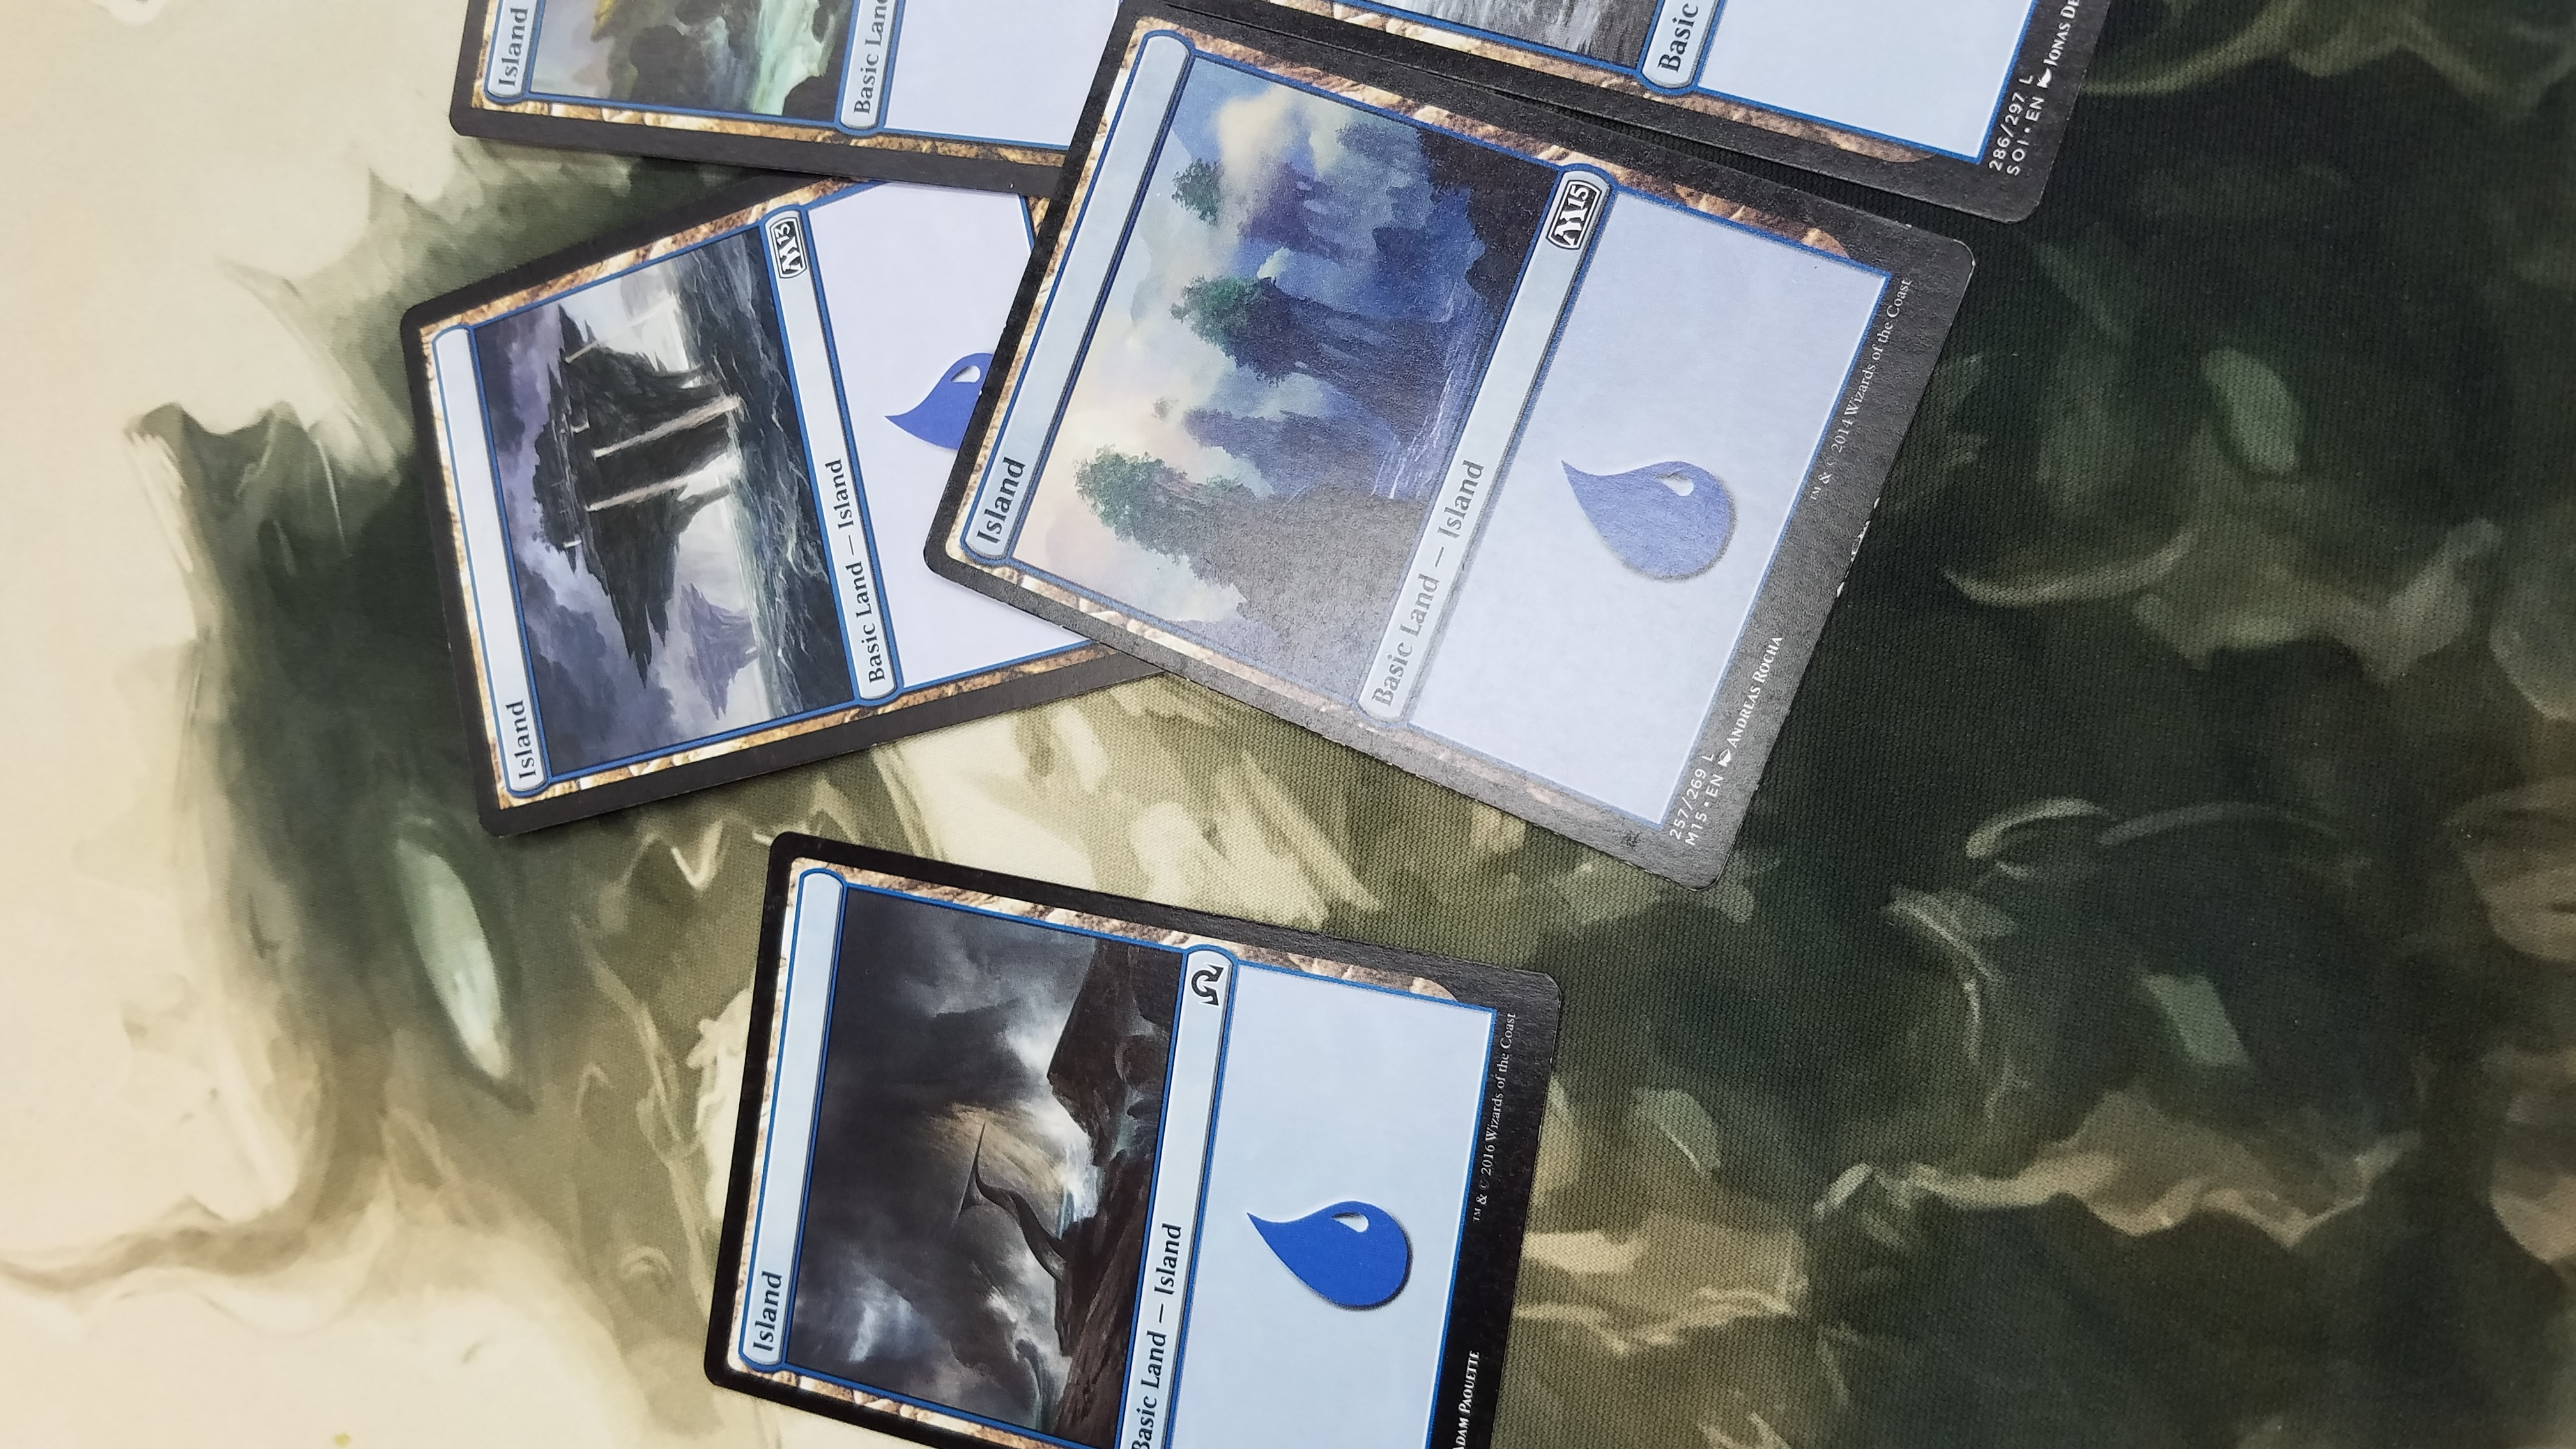Card: (934, 30, 1969, 893), (386, 168, 1214, 833), (715, 840, 1564, 1449), (439, 0, 1122, 205)
